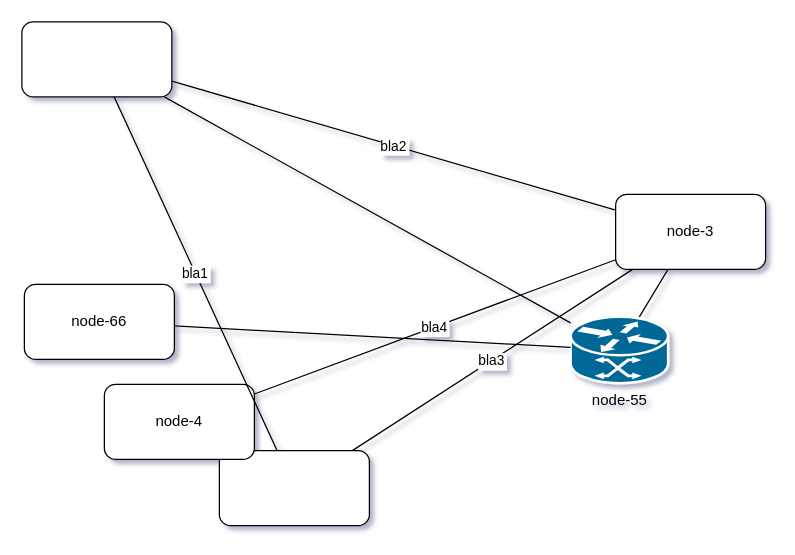
Some shapes in this 795 by 555 pixel diagram are drawn without their labels. The shapes that lost their labels are listed below. From the top down, each one's centre as x and y in pixels, then its label:
At point (96, 59): "node-2".
At point (293, 487): "node-1".
